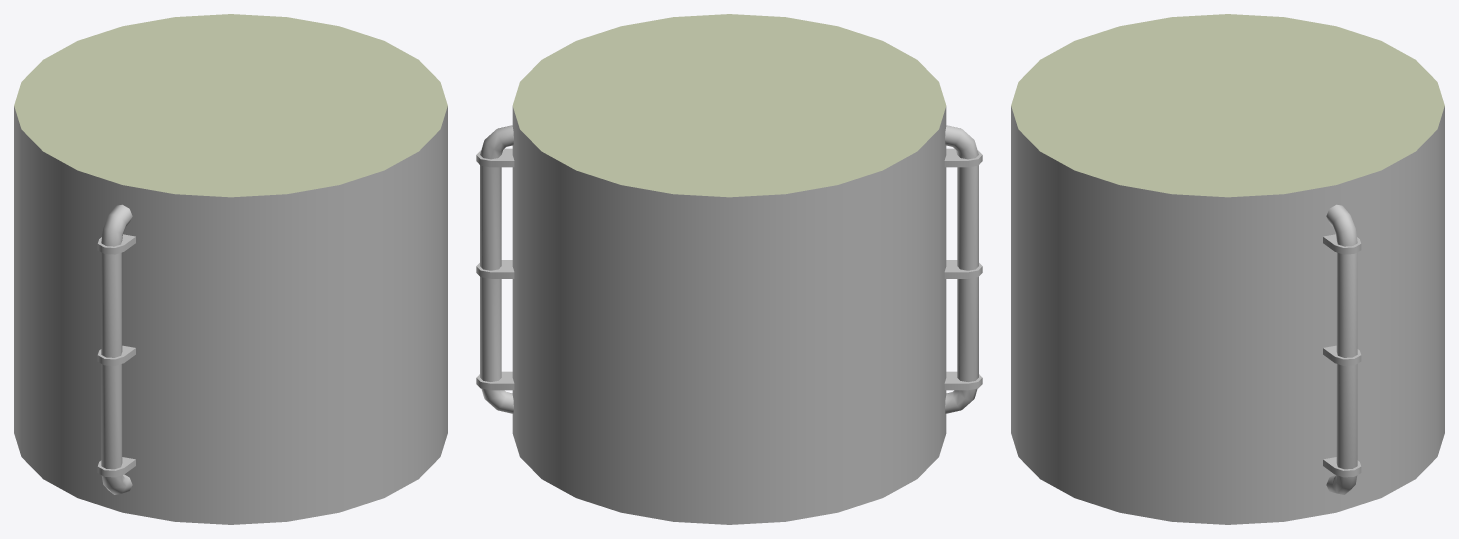
Rendered from ruby_fuel_tank_s1p2_1.obj.
3 views of the same model, side by side, from view 1: azimuth 30°, elevation 25°; view 2: azimuth 150°, elevation 25°; view 3: azimuth 270°, elevation 25° (orthographic).
Visible parts, largest first — view 1: ruby_fuel_tank_s1p2_1_ruby_fuel_tank_s1p2_1_auv, ruby_fuel_tank_s1p2_1_default; view 2: ruby_fuel_tank_s1p2_1_ruby_fuel_tank_s1p2_1_auv, ruby_fuel_tank_s1p2_1_default; view 3: ruby_fuel_tank_s1p2_1_ruby_fuel_tank_s1p2_1_auv, ruby_fuel_tank_s1p2_1_default.
Boxes of the visible parts, x1,y1,x2,y2 form: ruby_fuel_tank_s1p2_1_ruby_fuel_tank_s1p2_1_auv: [14, 106, 447, 524]; ruby_fuel_tank_s1p2_1_default: [14, 14, 447, 197]; ruby_fuel_tank_s1p2_1_ruby_fuel_tank_s1p2_1_auv: [476, 106, 982, 524]; ruby_fuel_tank_s1p2_1_default: [512, 14, 946, 197]; ruby_fuel_tank_s1p2_1_ruby_fuel_tank_s1p2_1_auv: [1011, 106, 1444, 524]; ruby_fuel_tank_s1p2_1_default: [1011, 14, 1444, 197].
Bounding box in the file's own units: 1.53 × 1.25 × 1.5.
